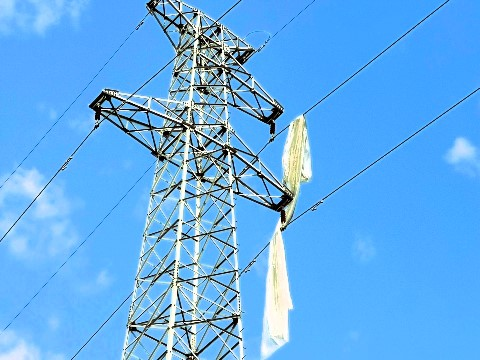wire foreign body: (254, 106, 318, 344)
